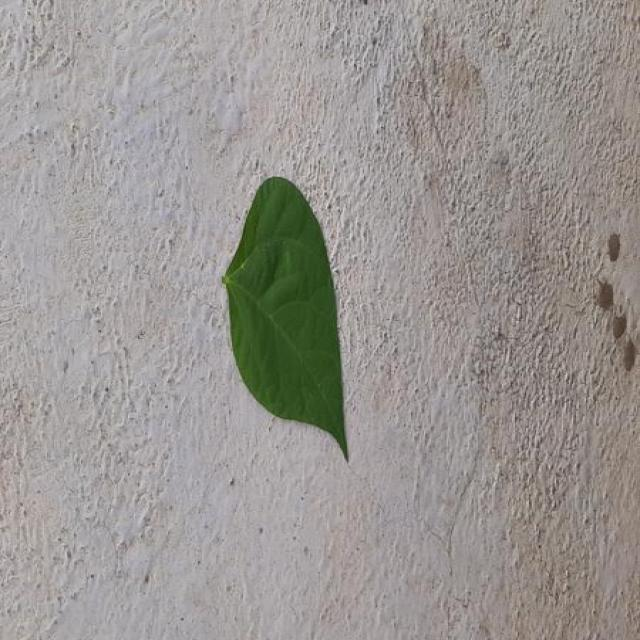beans: (222, 178, 348, 459)
